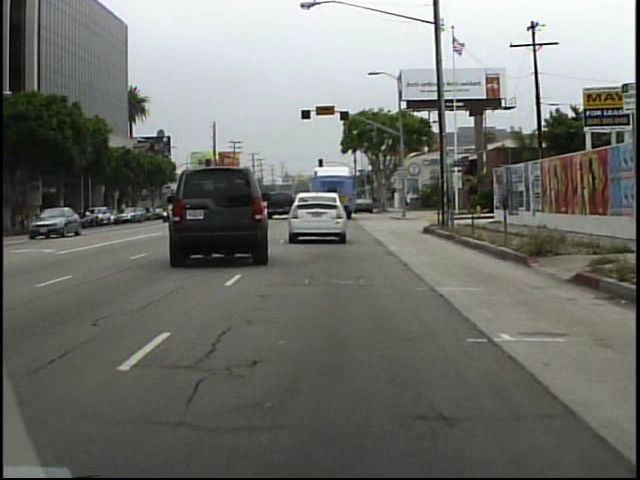person: (398, 189, 407, 214), (406, 188, 415, 212)
